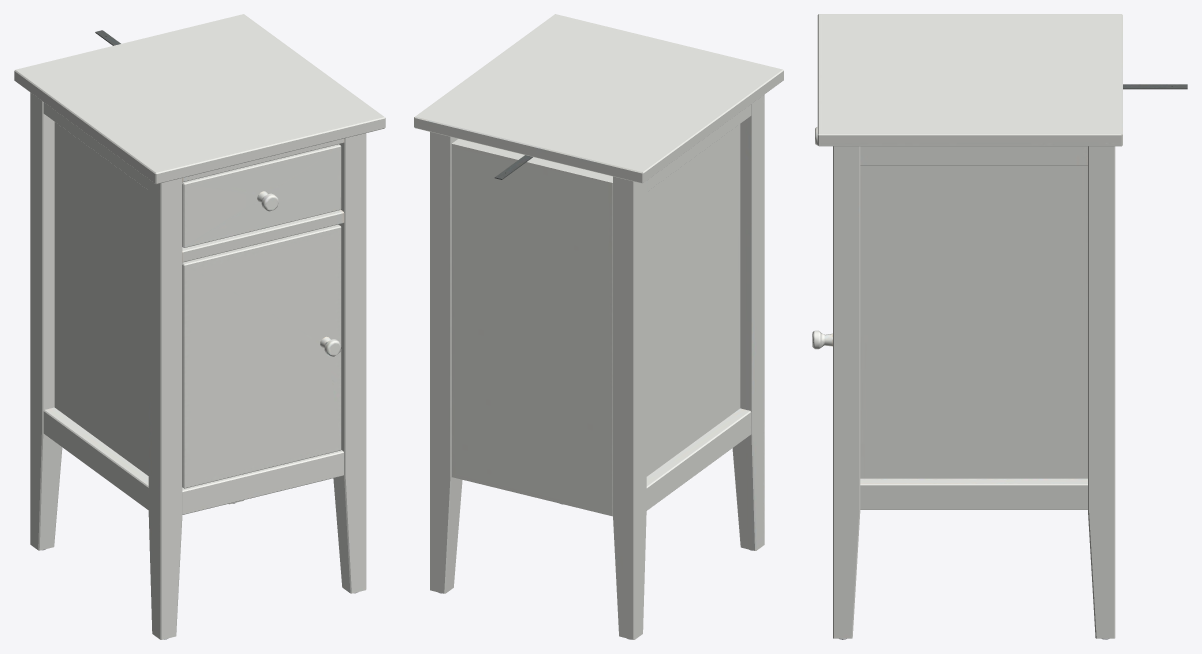
File: gullaberg_stolik_nocny_20561764.glb
3 views of the same model, side by side, from view 1: azimuth 30°, elevation 25°; view 2: azimuth 150°, elevation 25°; view 3: azimuth 270°, elevation 25° (orthographic). The views are drawn at different scales.
Parts seen in each view (by area): view 1: gullaberg_stolik_nocny_20561764; view 2: gullaberg_stolik_nocny_20561764; view 3: gullaberg_stolik_nocny_20561764.
Part boxes in pixels (x1=…): gullaberg_stolik_nocny_20561764: x1=14, y1=14, x2=385, y2=639; gullaberg_stolik_nocny_20561764: x1=414, y1=14, x2=783, y2=639; gullaberg_stolik_nocny_20561764: x1=812, y1=14, x2=1187, y2=639.
Size of the model in its own units: 0.376 by 0.7455 by 0.493.
3 materials, 3 textured.
